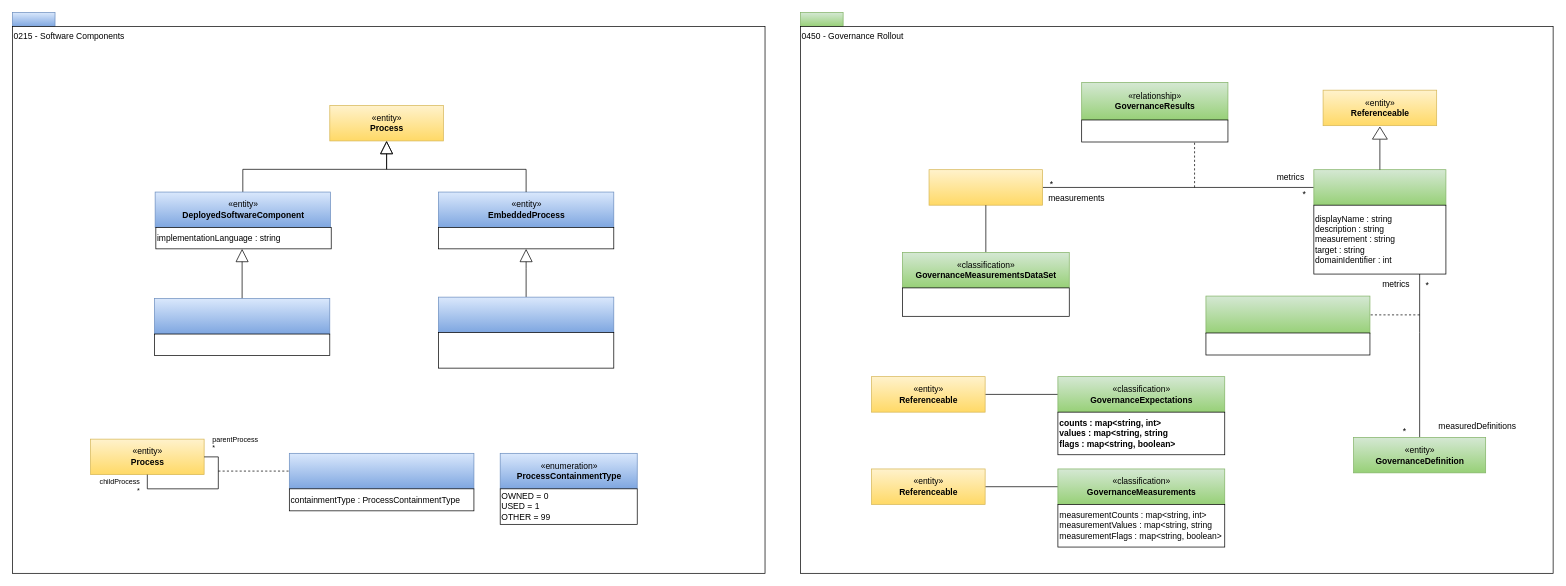
This 1566x586 diagram has some shape labels left out. Here are the shapes that lost their labels. From the top down, the box of each, then its label:
(1081, 119, 1228, 142): query : string
(928, 169, 1043, 205): «entity» DataSet
(1313, 169, 1446, 205): «entity» GovernanceMetric
(154, 298, 330, 334): «entity» DeployedConnector
(438, 296, 614, 333): «entity» TransientEmbeddedProcess
(902, 287, 1069, 316): description : string
(1205, 295, 1370, 334): «relationship» GovernanceDefinitionMetric
(438, 332, 614, 368): processStartTime : date processEndTime : date
(1205, 332, 1370, 355): rationale : string
(289, 453, 474, 489): «relationship» ProcessHierarchy
